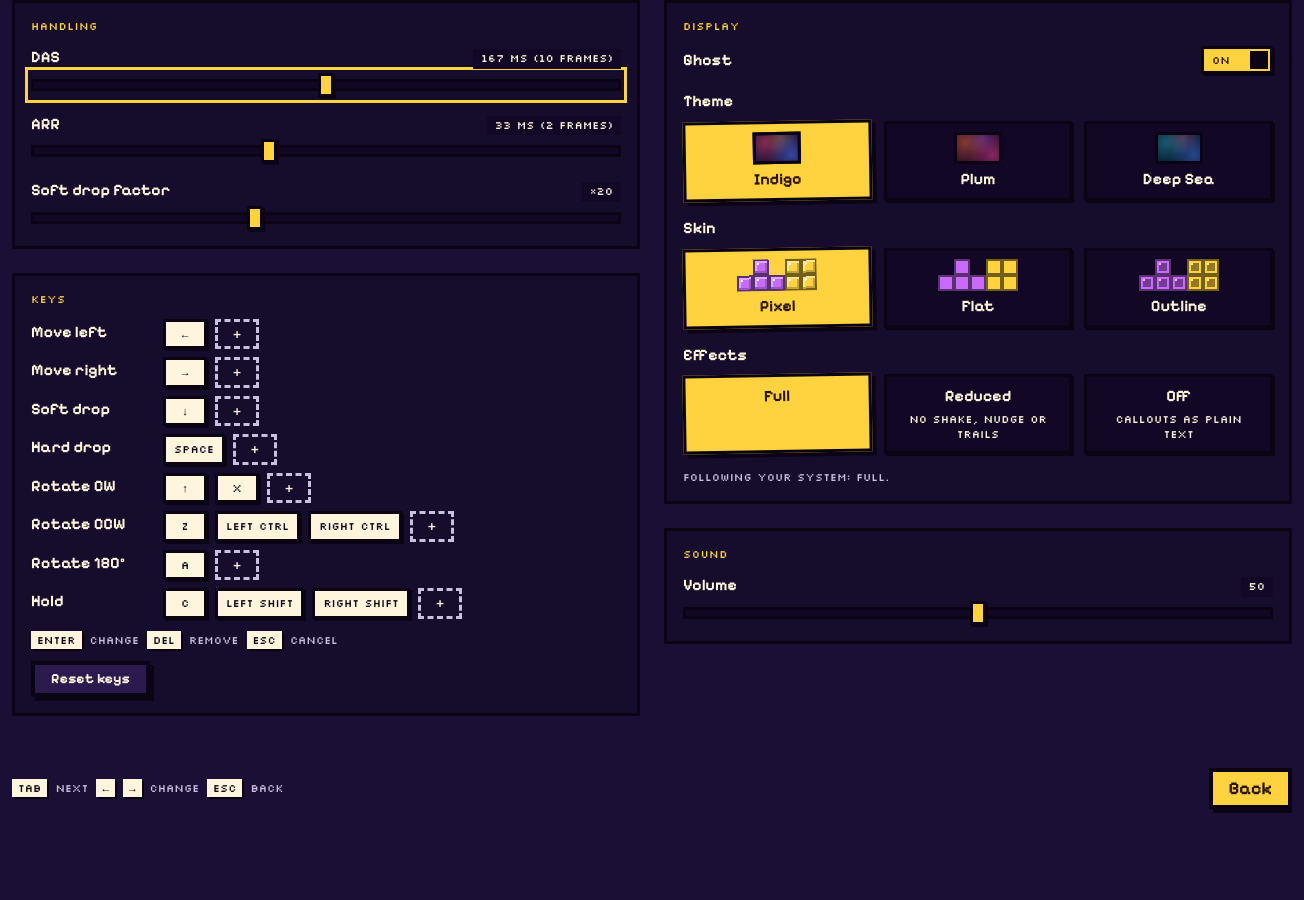
Test: bindings › binding a key that's in use swaps the two actions' keys
This screenshot has width=1304, height=900.
Click the button named "Hold: C" at [185, 604], box [163,588,207,619]
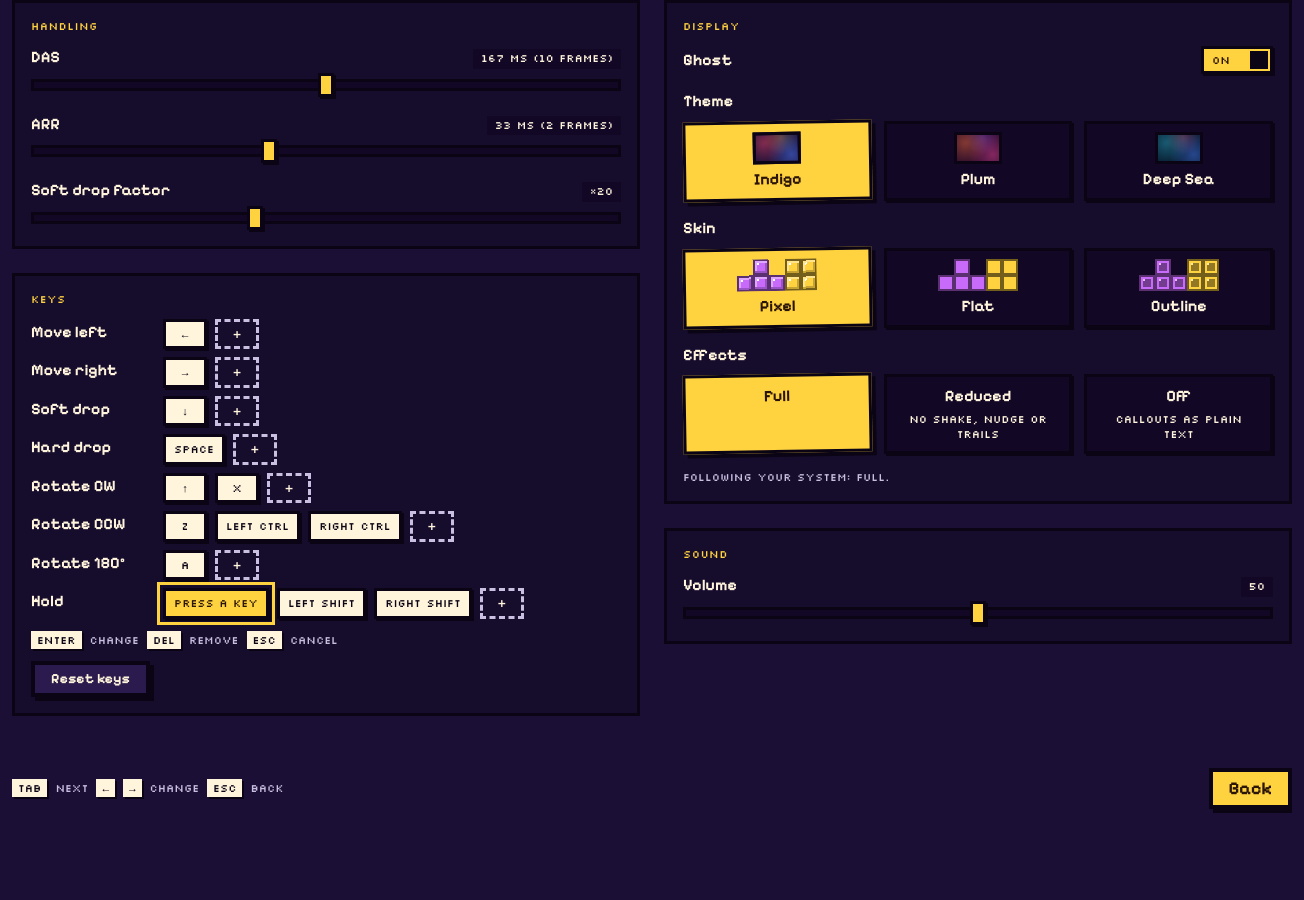
Type keys "x"
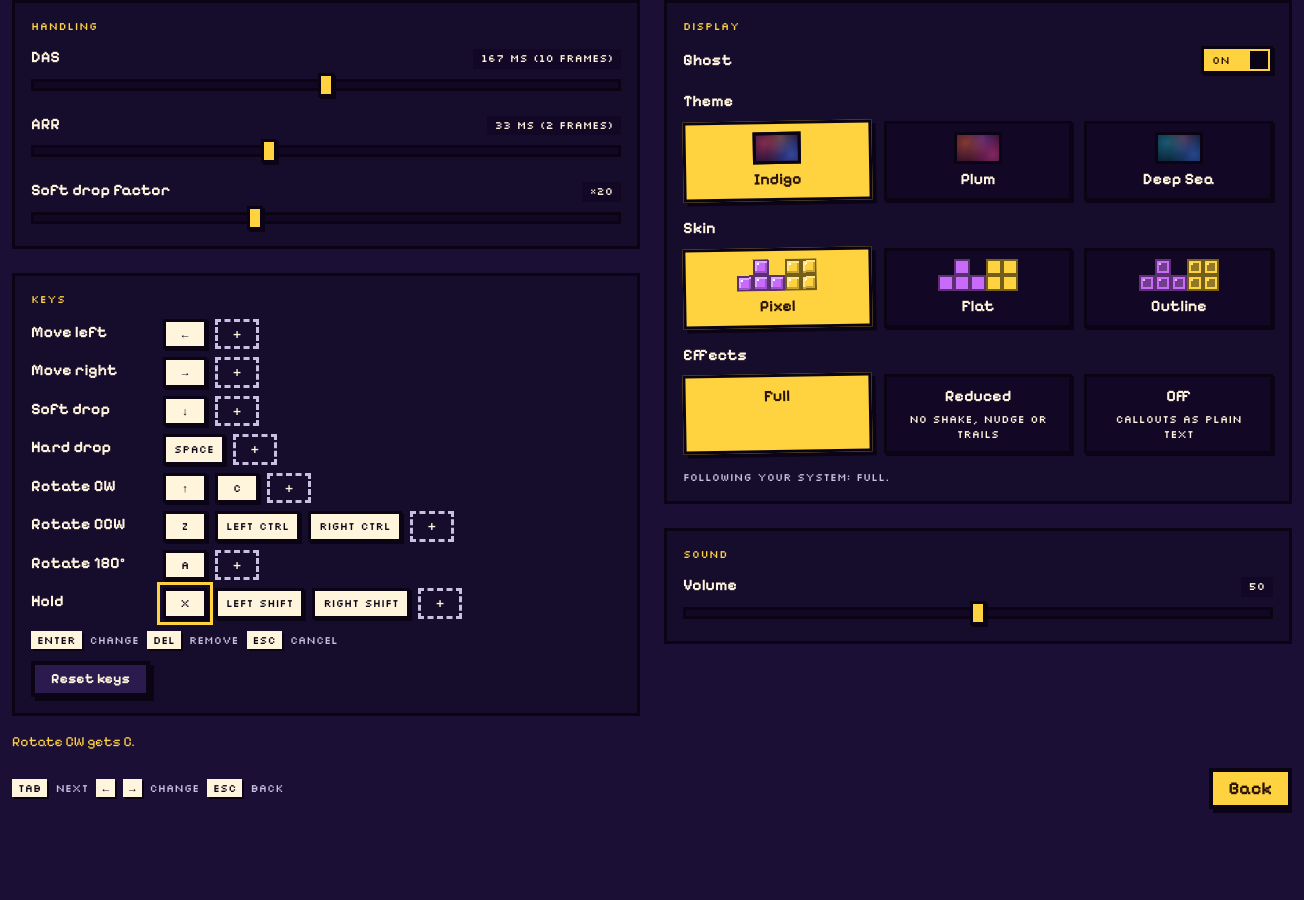
Expected: the message with test id "settings-message" reads "Rotate CW gets C.", [12,733,135,750]
